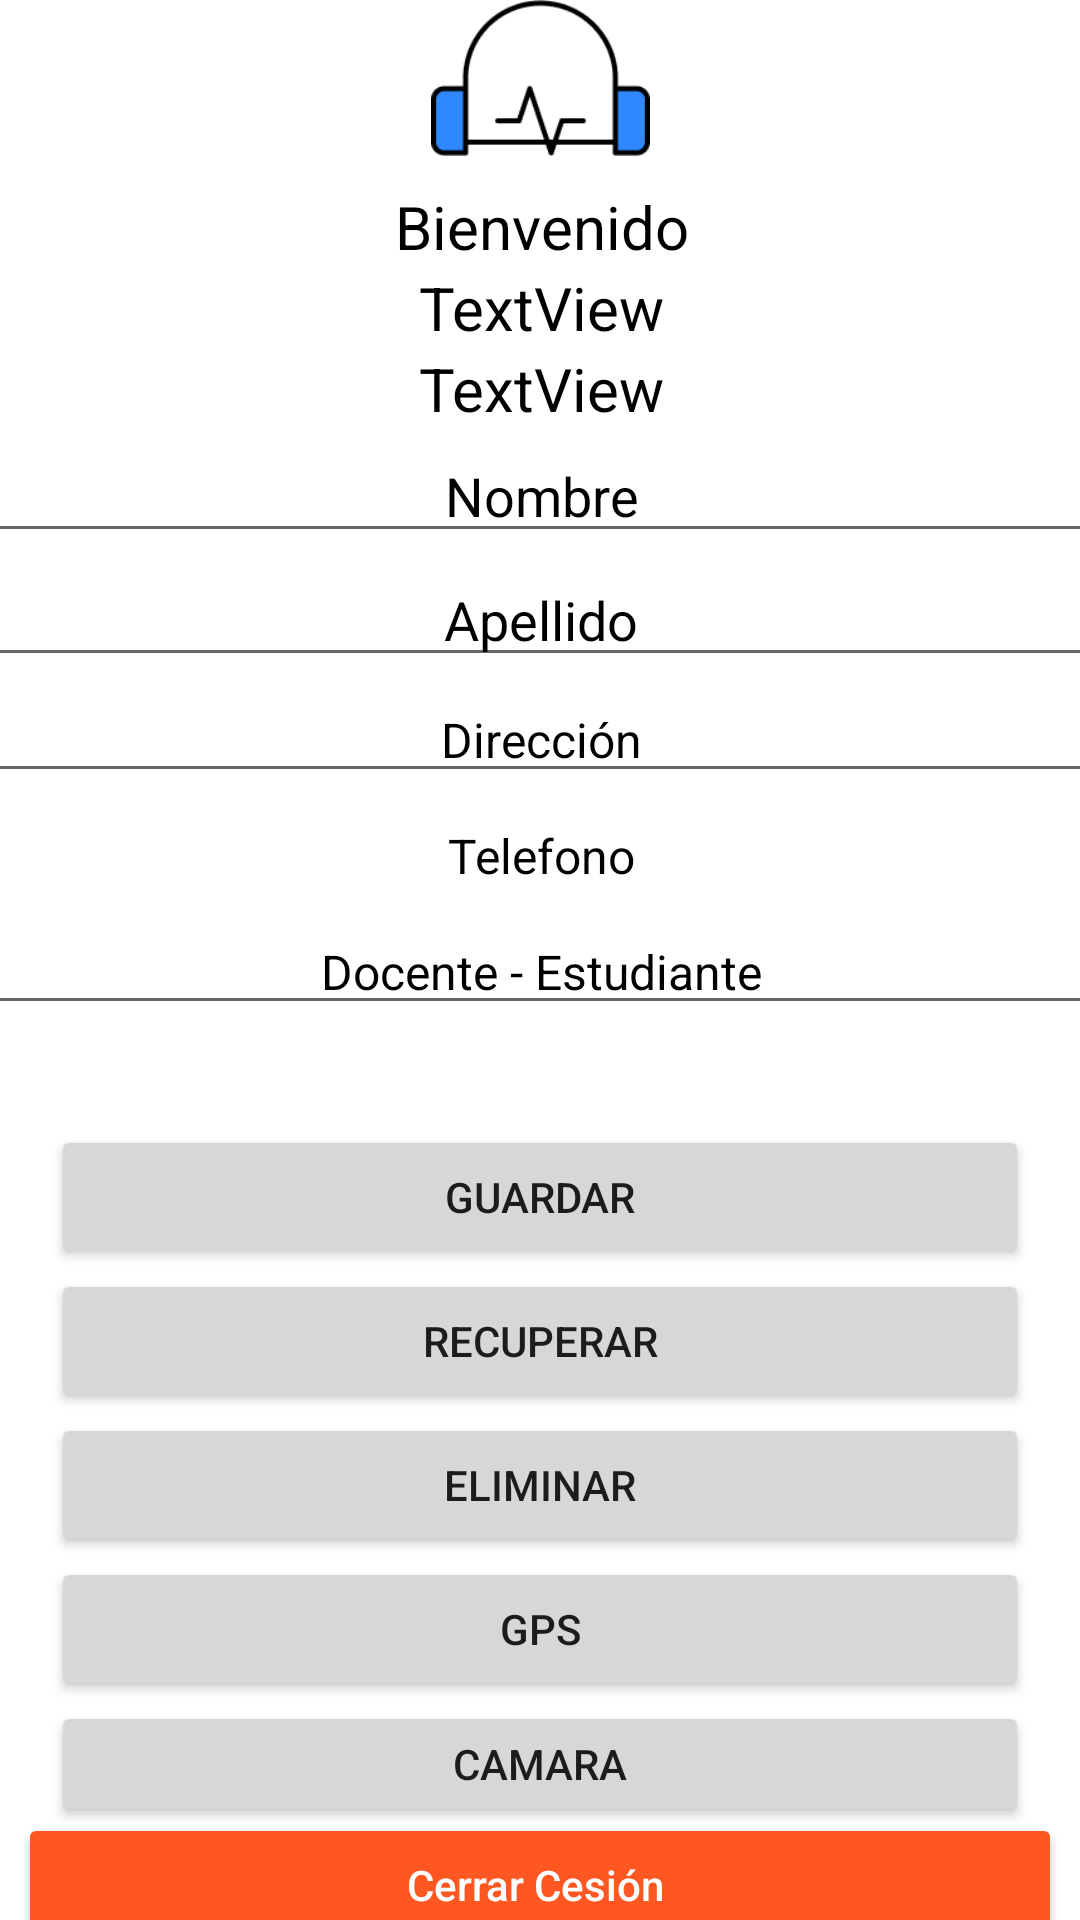

Icon bounding boxes for this 1080 x 1920 phone screenshot, format bbox=[x1, y1, x2, y2]:
sound: bbox=[431, 0, 650, 156]
